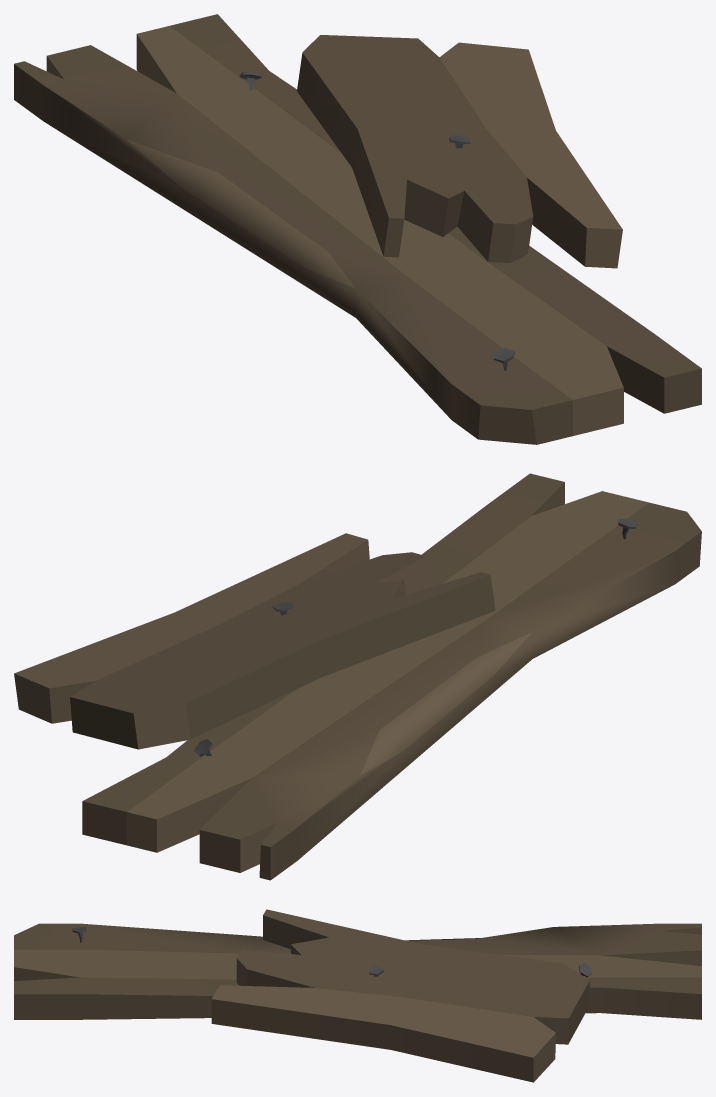
Rendered from Zwerfhout_3.fbx.
3 renders of one model, top to bottom at view 1: azimuth 30°, elevation 25°; view 2: azimuth 150°, elevation 25°; view 3: azimuth 270°, elevation 25°, orthographic. The views are drawn at different scales.
Visible parts, largest first — view 1: Zwerfhout_3; view 2: Zwerfhout_3; view 3: Zwerfhout_3.
Part boxes in pixels (x1,y1,x2,y2): Zwerfhout_3: (14, 14, 701, 444); Zwerfhout_3: (14, 473, 701, 880); Zwerfhout_3: (14, 909, 701, 1082).
Size of the model in its own units: 5.88 by 1.27 by 12.45.
